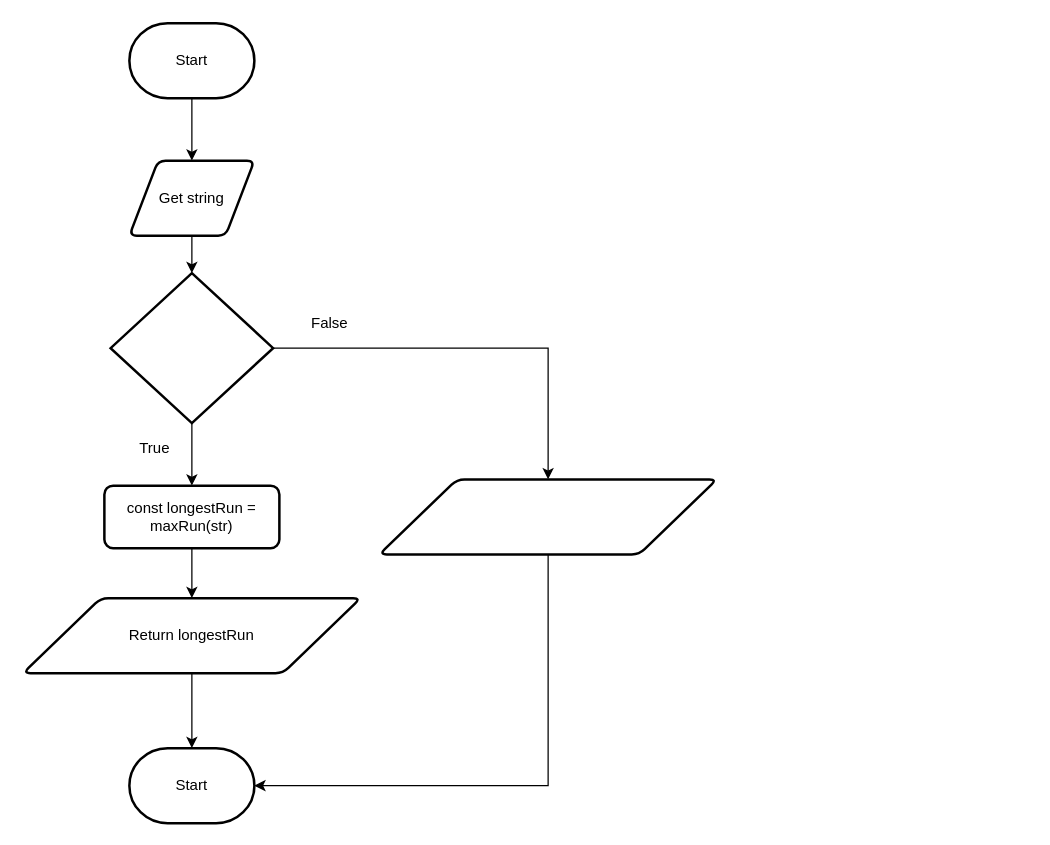
The diagram is 1050 pixels wide and 845 high, and some of its shapes have lost their labels. Each missing label, with the centre of its shape:
if (str !== null): (191,347)
Print `no input provided`: (548,516)
